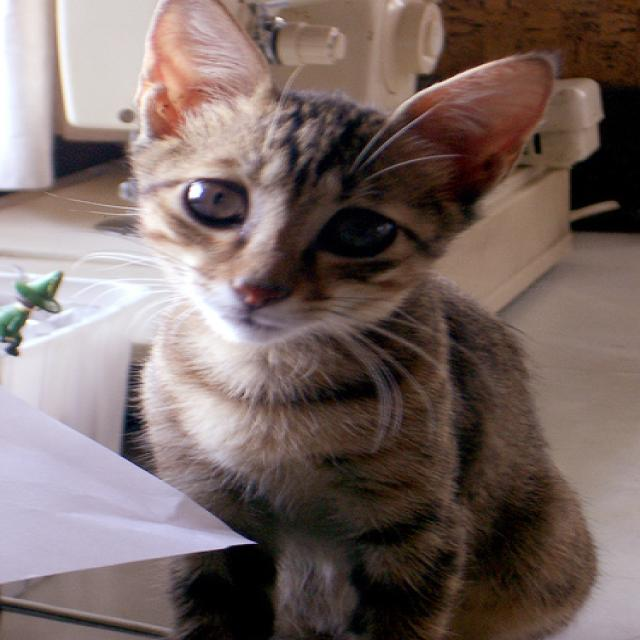cat: (47, 1, 600, 640)
